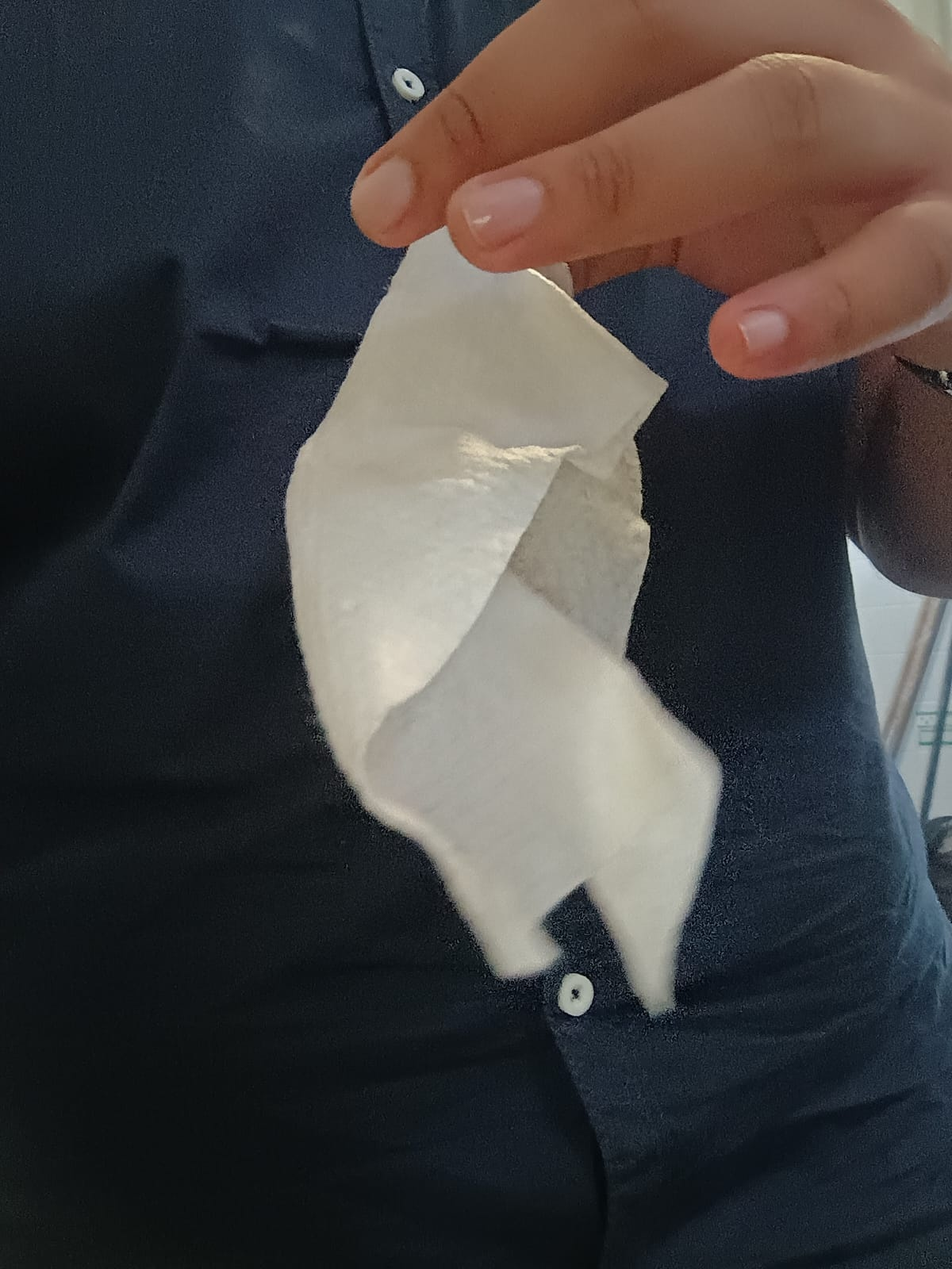Ordinario: (281, 191, 724, 1018)
